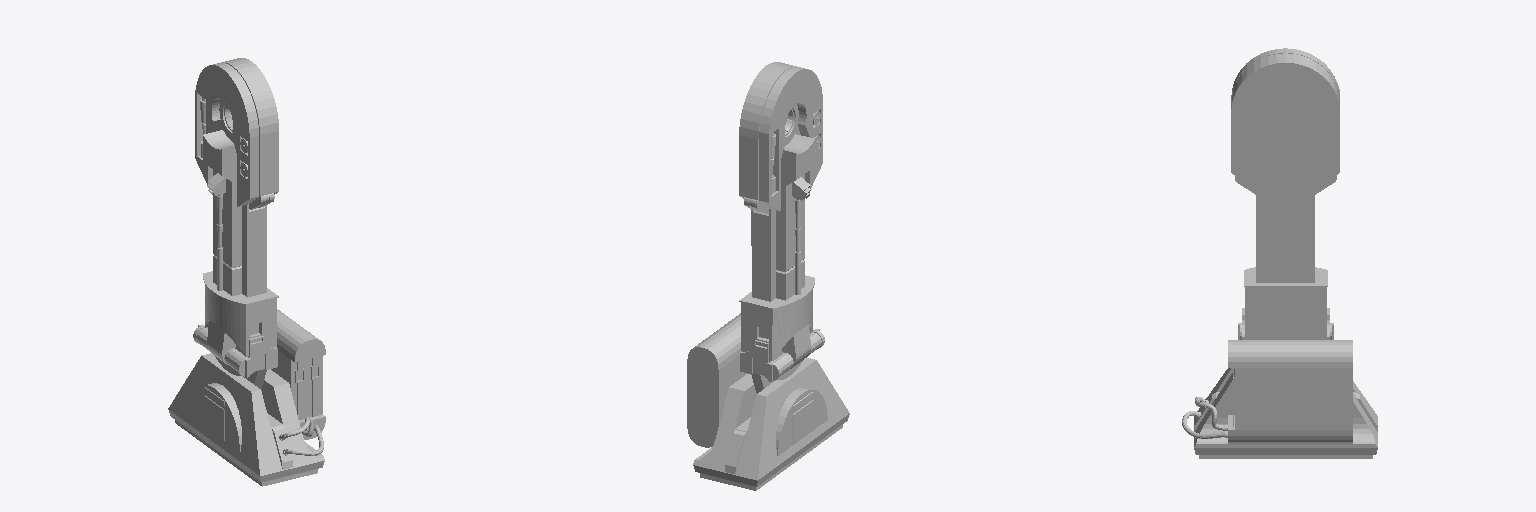
File: pata izquierda.obj
The picture shows the model from 3 angles: view 1: azimuth 30°, elevation 25°; view 2: azimuth 150°, elevation 25°; view 3: azimuth 270°, elevation 25°; orthographic projection.
Parts seen in each view (by area): view 1: _D2_R2_Right_Upper_Leg; view 2: _D2_R2_Right_Upper_Leg; view 3: _D2_R2_Right_Upper_Leg.
Boxes of the visible parts, x1=… form: _D2_R2_Right_Upper_Leg: x1=168, y1=58, x2=325, y2=486; _D2_R2_Right_Upper_Leg: x1=687, y1=62, x2=849, y2=490; _D2_R2_Right_Upper_Leg: x1=1182, y1=48, x2=1377, y2=458.
Bounding box in the file's own units: 1.9 × 7.9 × 3.65.